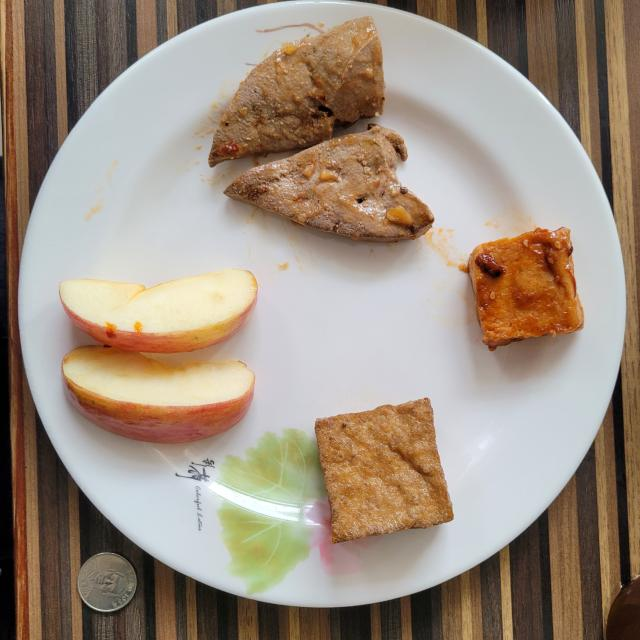apple -sliced-: (59, 269, 258, 442)
coin: (78, 552, 136, 612)
creamy tofu: (468, 228, 584, 350)
egg tofu: (315, 398, 454, 542)
pig liver: (209, 16, 434, 241)
